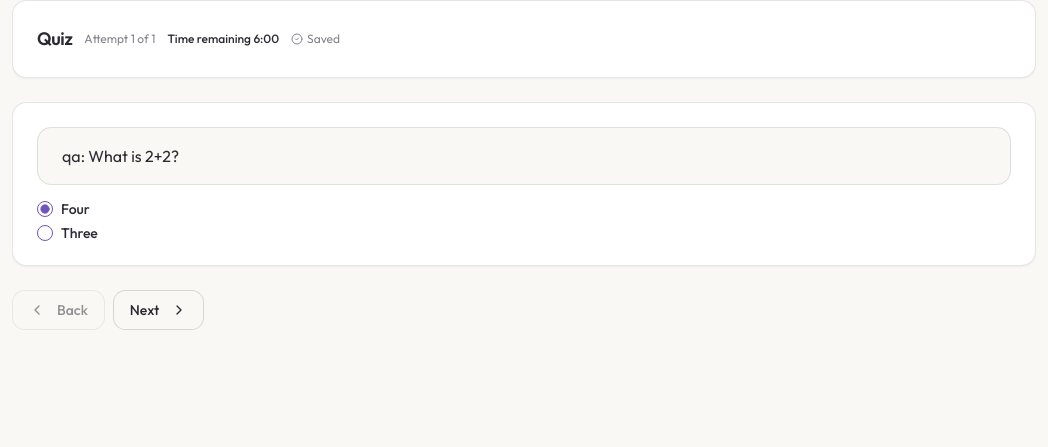
InlineQuizPlayer lifecycle › resumes the same pending attempt with its saved answer and elapsed time, without a new start
Expected: the radio button named "Four" next to "Four" is checked, [37,201,53,217]
Expected: the text with test id "quiz-timer" reads "Time remaining 6:00", [253,31,279,46]
Click the button "Next": (159,310) [113,290,204,330]
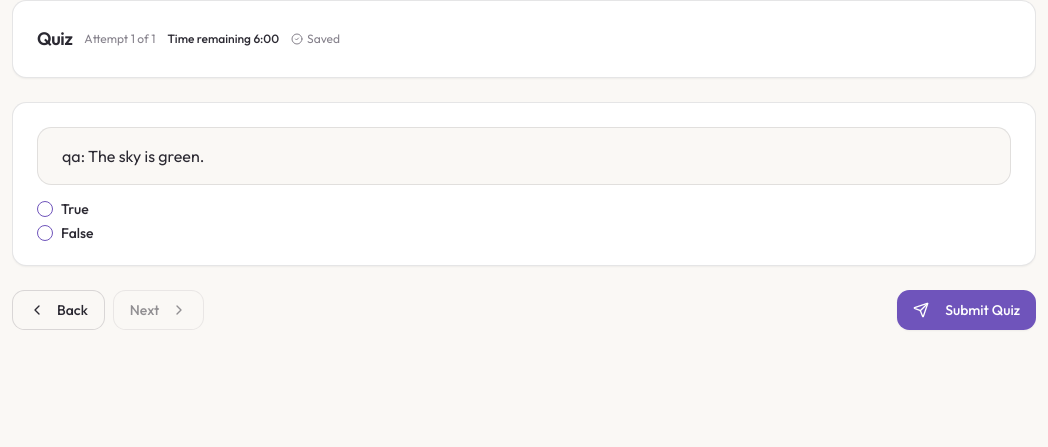
Click the radio button named "False" next to "False": (45,233) [37,225,53,241]
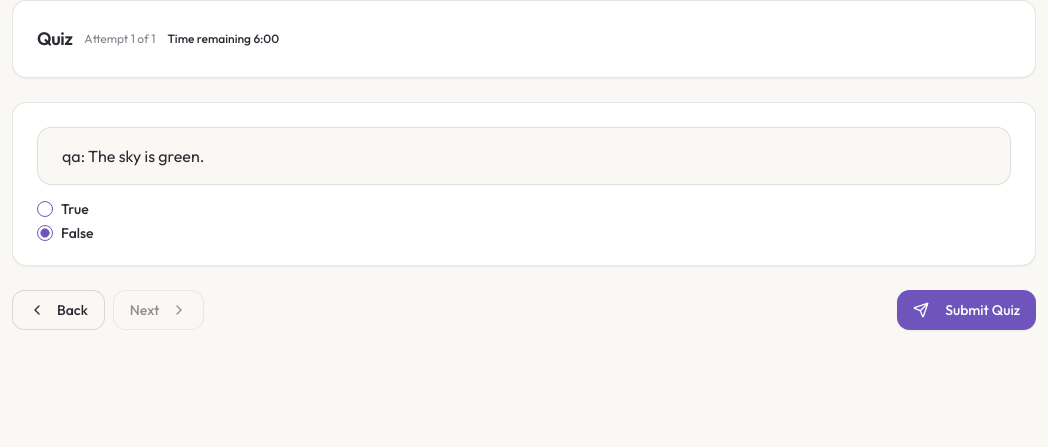
Click the button "Submit Quiz": (967,310) [897,290,1036,330]
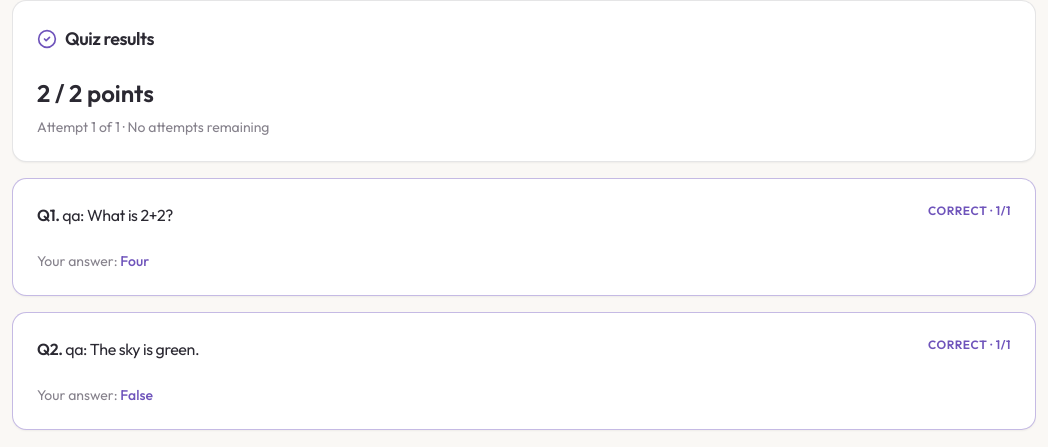
Now the element with test id "quiz-player-review" is shown
